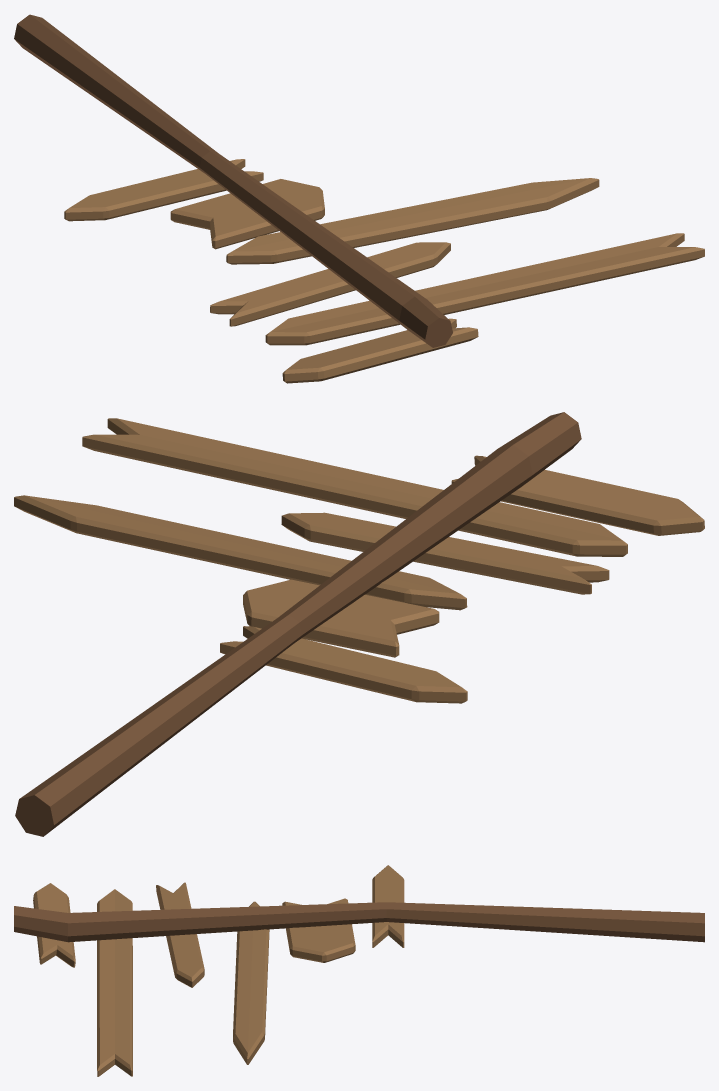
File: Panel_13.fbx
The picture shows the model from 3 angles, top to bottom: view 1: azimuth 30°, elevation 25°; view 2: azimuth 150°, elevation 25°; view 3: azimuth 270°, elevation 25°; orthographic projection. The views are drawn at different scales.
Visible parts, largest first — view 1: Poteau 1*6 bizzare fleches LOW.002; view 2: Poteau 1*6 bizzare fleches LOW.002; view 3: Poteau 1*6 bizzare fleches LOW.002.
Boxes of the visible parts, x1=… form: Poteau 1*6 bizzare fleches LOW.002: x1=14, y1=14, x2=704, y2=383; Poteau 1*6 bizzare fleches LOW.002: x1=14, y1=412, x2=704, y2=836; Poteau 1*6 bizzare fleches LOW.002: x1=14, y1=865, x2=704, y2=1076.
Size of the model in its own units: 103 by 12.27 by 160.
